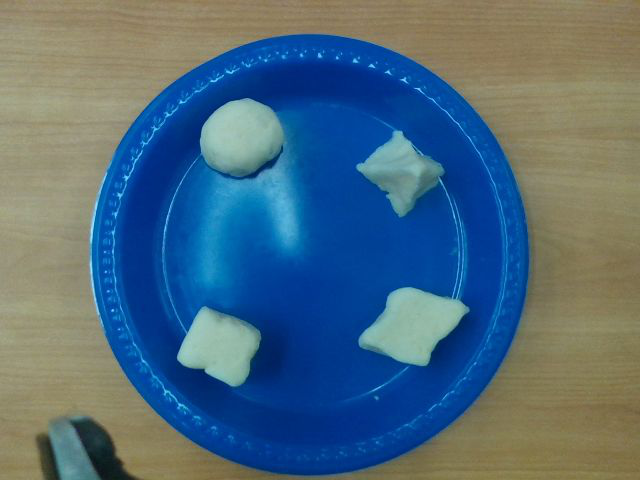mashed_potato: (358, 287, 469, 367), (357, 131, 443, 217), (200, 98, 284, 179), (177, 307, 261, 387)
